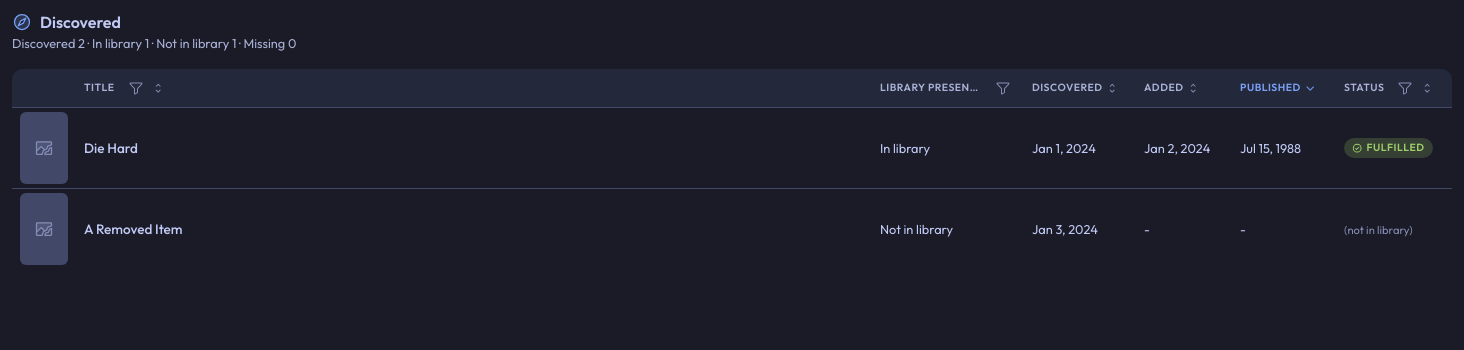
Test: WishlistDiscoveredList › drives the standard library-presence filter into the query params
This screenshot has width=1464, height=350.
Click the button named "Filter by Library presence": {"x": 1003, "y": 88} [990,75,1016,101]
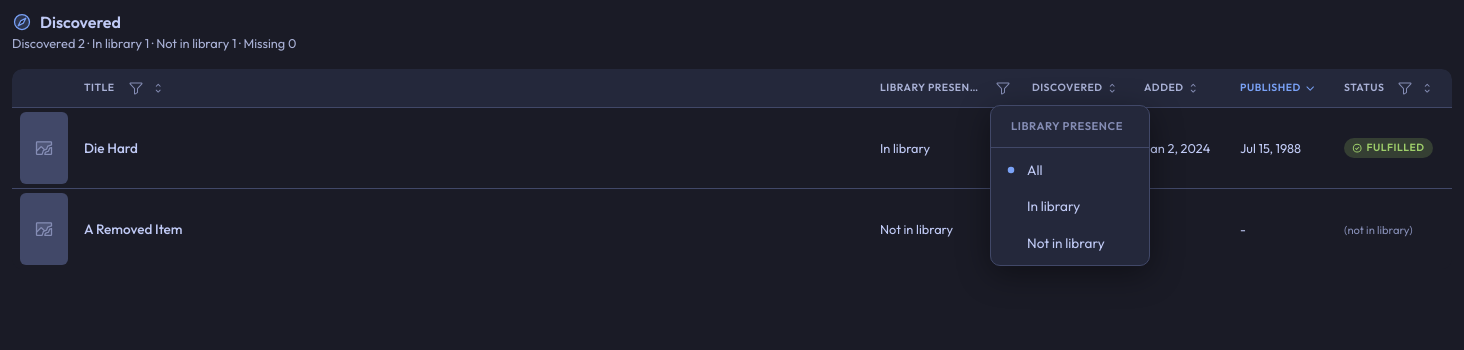
Click the menu item "Not in library": {"x": 1066, "y": 243} [1027,234,1105,252]
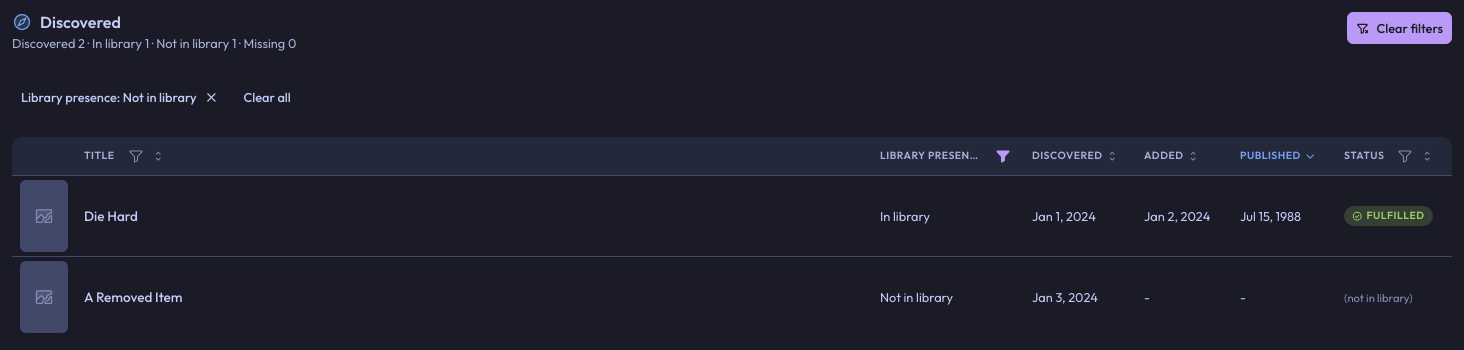
Expected: the button "Clear filters" is shown, [1347,12,1452,44]
